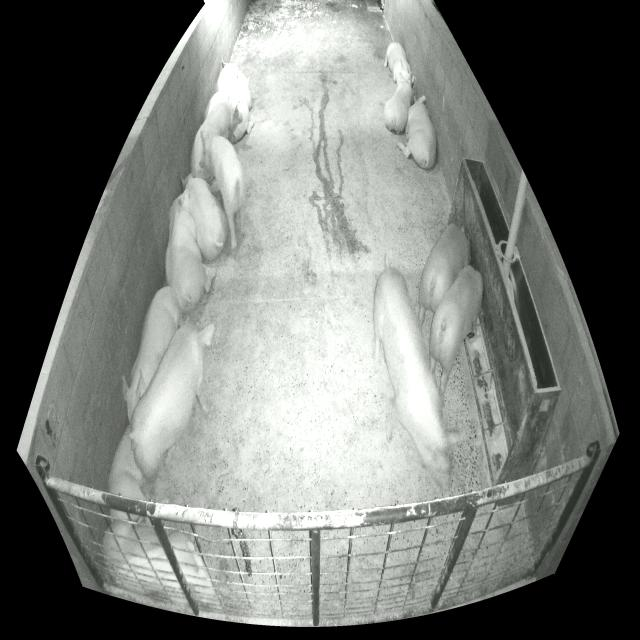pig: (374, 253, 468, 492), (130, 321, 215, 500), (103, 519, 215, 609), (123, 287, 182, 421), (430, 266, 483, 395), (418, 224, 470, 332), (165, 185, 208, 313), (199, 132, 245, 248), (190, 90, 242, 183), (182, 173, 228, 260), (108, 424, 148, 500), (216, 60, 252, 143), (397, 95, 436, 169), (384, 72, 414, 133), (384, 42, 411, 86), (204, 92, 228, 121)
